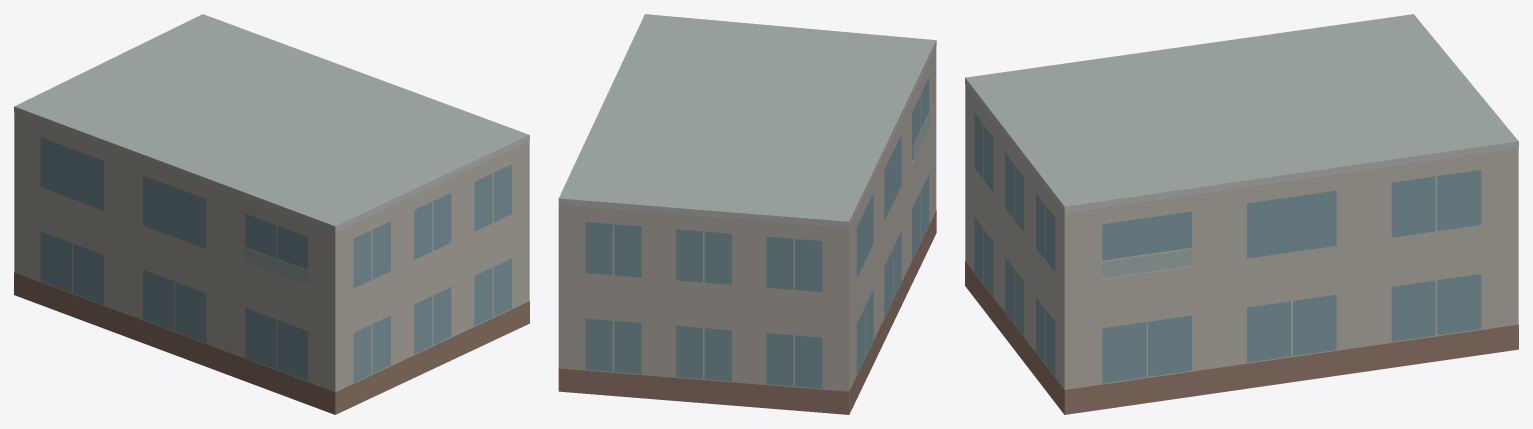
The model's file is survey-upis-32743621.glb.
3 renders of one model, left to right at view 1: azimuth 30°, elevation 25°; view 2: azimuth 150°, elevation 25°; view 3: azimuth 270°, elevation 25°, orthographic. The views are drawn at different scales.
Visible parts, largest first — view 1: survey-upis-32743621.tmp; view 2: survey-upis-32743621.tmp; view 3: survey-upis-32743621.tmp.
Boxes of the visible parts, <box> form: survey-upis-32743621.tmp: <box>14,14,529,414</box>; survey-upis-32743621.tmp: <box>558,14,936,414</box>; survey-upis-32743621.tmp: <box>965,14,1518,414</box>.
Bounding box in the file's own units: 14.89 × 7.5 × 18.08.
